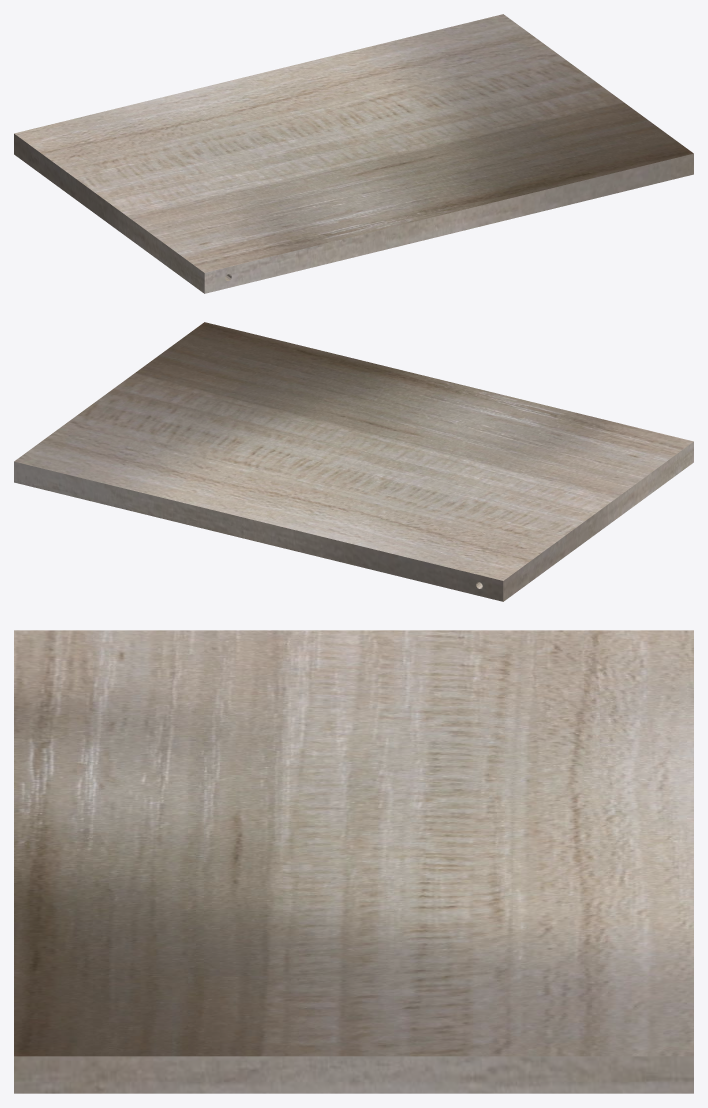
The model's file is Link2-texture-hor.obj.
The picture shows the model from 3 angles, top to bottom: view 1: azimuth 30°, elevation 25°; view 2: azimuth 150°, elevation 25°; view 3: azimuth 270°, elevation 25°; orthographic projection. The views are drawn at different scales.
Visible parts, largest first — view 1: Link2; view 2: Link2; view 3: Link2.
Part boxes in pixels (left/top/right/bottom): Link2: left=14, top=14, right=693, bottom=293; Link2: left=14, top=322, right=693, bottom=601; Link2: left=14, top=630, right=693, bottom=1093.
Size of the model in its own units: 0.367 by 0.015 by 0.2475.
Materials: 1 (1 with a texture image).
